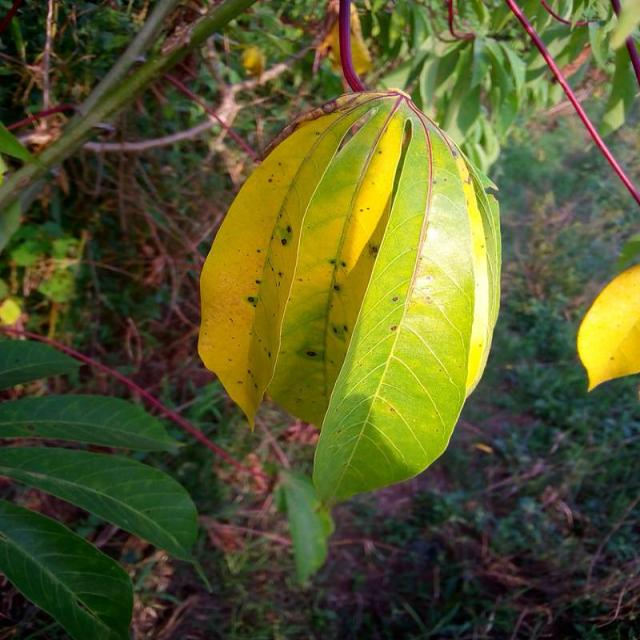cassava leaf: (198, 85, 503, 508)
